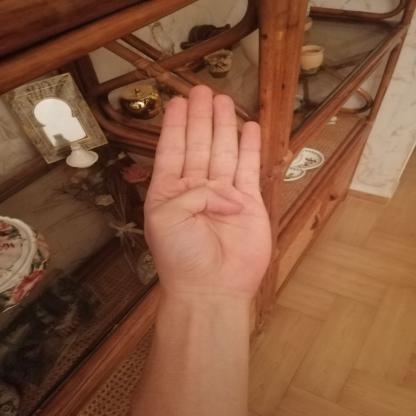KAAF: (128, 75, 295, 315)
